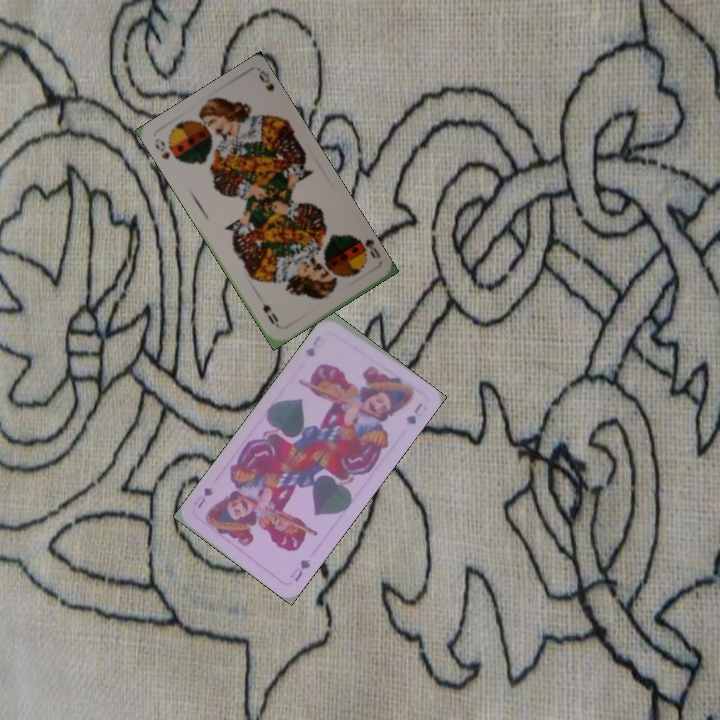GU: (286, 555, 313, 584), (301, 331, 323, 359)
SO: (349, 233, 383, 261), (151, 136, 179, 162)
